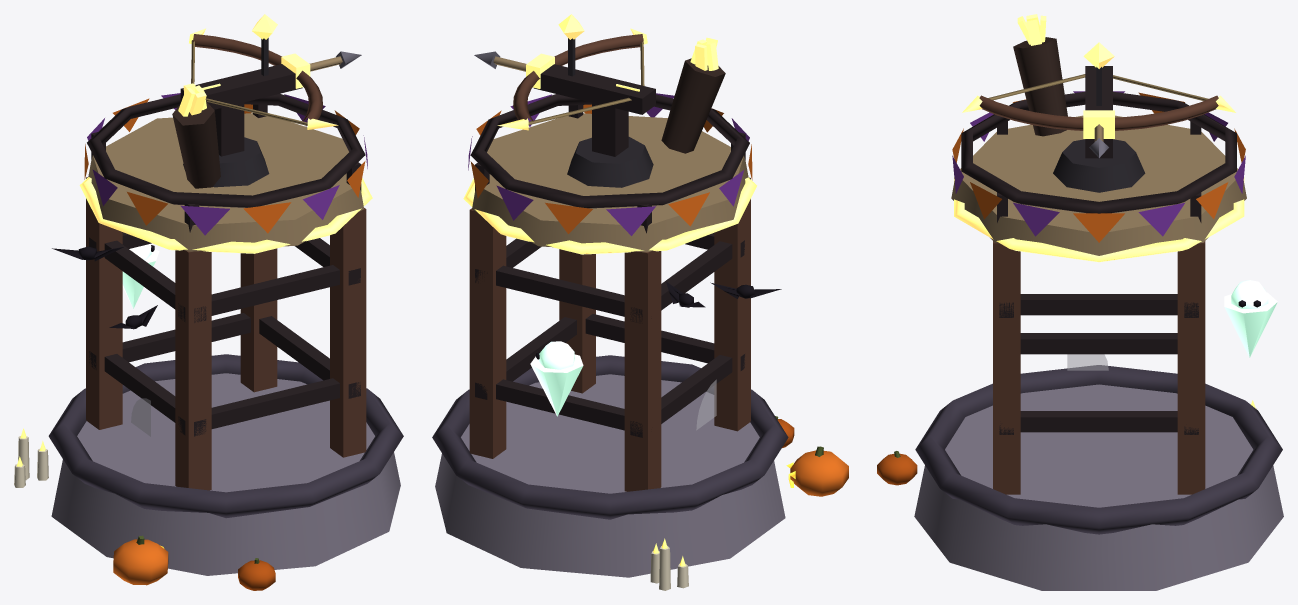
Rendered from tower_archer_marksman.glb.
3 views of the same model, side by side, from view 1: azimuth 30°, elevation 25°; view 2: azimuth 150°, elevation 25°; view 3: azimuth 270°, elevation 25° (orthographic). The views are drawn at different scales.
Visible parts, largest first — view 1: base, deck, base_rim, post_wn, post_en, rail, post_ws, deco_hw_bunting, post_es, beam_x_0_n, beam_x_1_n, deck_band (+16 smaller); view 2: base, deck, base_rim, post_ws, post_es, post_wn, rail, deco_hw_bunting, quiver, stock, swivel, post_en (+15 smaller); view 3: base, deck, base_rim, post_es, rail, post_en, deco_hw_bunting, beam_z_0_e, beam_z_0_w, beam_z_1_e, swivel, quiver (+8 smaller).
Boxes of the visible parts, x1,y1,x2,y2 form: base: [51, 373, 400, 575]; deck: [88, 113, 363, 251]; base_rim: [48, 354, 403, 518]; post_wn: [175, 250, 211, 490]; post_en: [330, 208, 366, 457]; rail: [87, 94, 365, 207]; post_ws: [86, 177, 122, 429]; deco_hw_bunting: [84, 93, 367, 235]; post_es: [240, 248, 277, 392]; beam_x_0_n: [178, 378, 339, 435]; beam_x_1_n: [178, 265, 339, 321]; deck_band: [79, 177, 372, 253]; base: [435, 374, 785, 577]; deck: [472, 113, 748, 252]; base_rim: [432, 355, 788, 519]; post_ws: [624, 250, 661, 491]; post_es: [469, 208, 506, 458]; post_wn: [714, 177, 750, 431]; rail: [470, 94, 749, 208]; deco_hw_bunting: [468, 93, 752, 235]; quiver: [661, 58, 725, 153]; stock: [534, 64, 655, 114]; swivel: [567, 137, 653, 187]; post_en: [559, 249, 595, 393]; base: [914, 384, 1283, 590]; deck: [951, 115, 1246, 255]; base_rim: [915, 365, 1282, 534]; post_es: [1177, 241, 1205, 494]; rail: [961, 91, 1236, 213]; post_en: [993, 241, 1020, 494]; deco_hw_bunting: [952, 91, 1245, 242]; beam_z_0_e: [1020, 411, 1177, 432]; beam_z_0_w: [1020, 333, 1177, 354]; beam_z_1_e: [1020, 294, 1177, 315]; swivel: [1053, 139, 1145, 192]; quiver: [1013, 37, 1067, 136].
Bounding box in the file's own units: 0.4215 × 0.59 × 0.4404.
